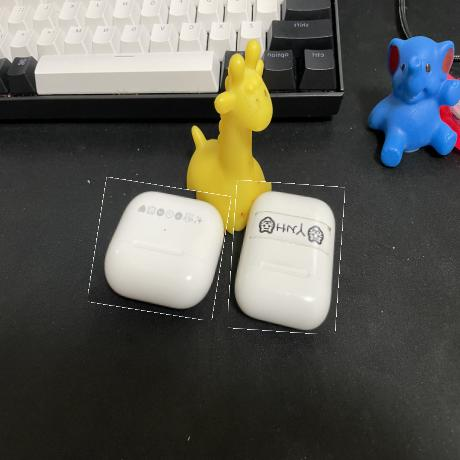airpod2: (230, 182, 342, 334)
airpod3: (91, 182, 227, 316)
